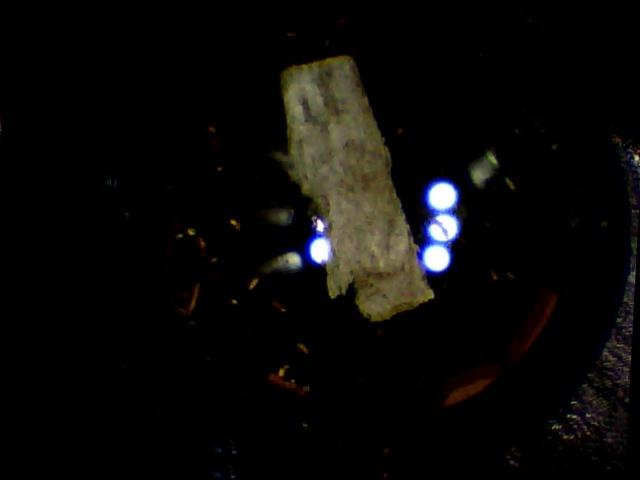megot: (252, 47, 459, 329)
